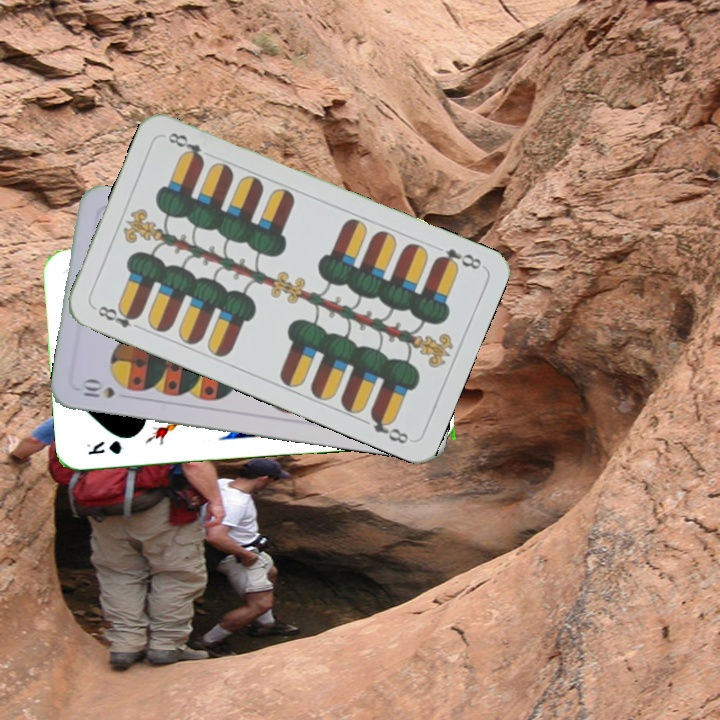E8: (90, 302, 146, 333), (431, 244, 485, 273)
GK: (82, 436, 124, 458)
S10: (79, 377, 117, 401)
